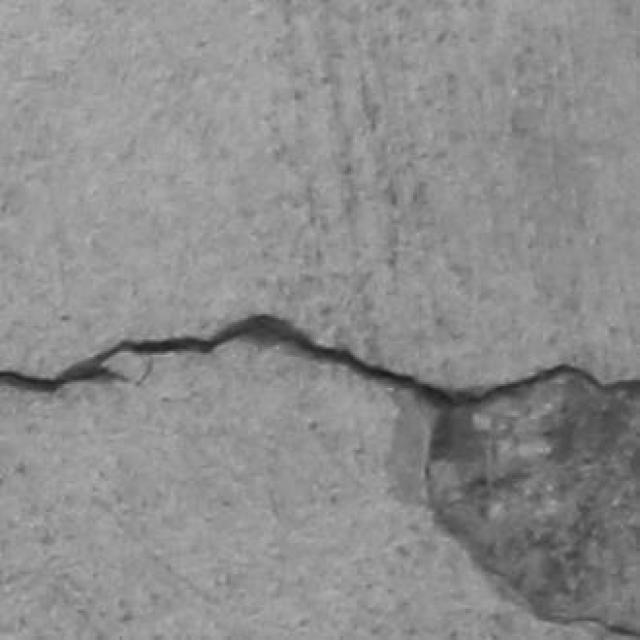crack: (0, 314, 638, 636), (0, 315, 639, 413), (0, 315, 639, 409)
